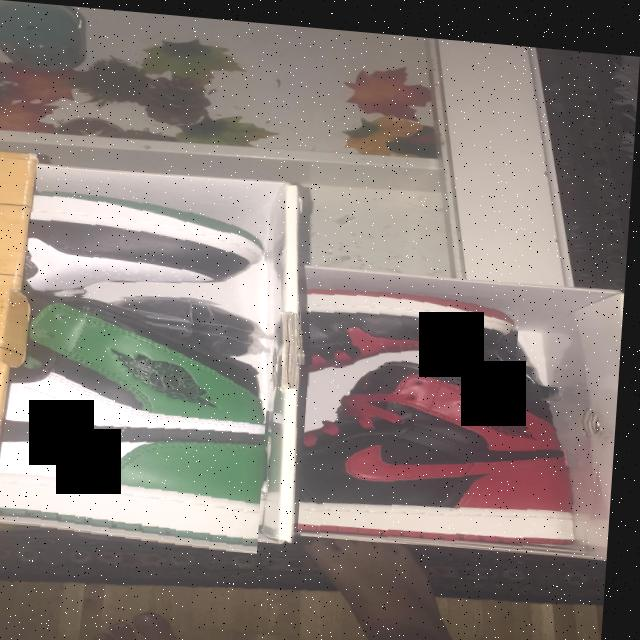shoe: (35, 304, 276, 548), (305, 360, 613, 549), (28, 188, 271, 308), (299, 275, 524, 374)
